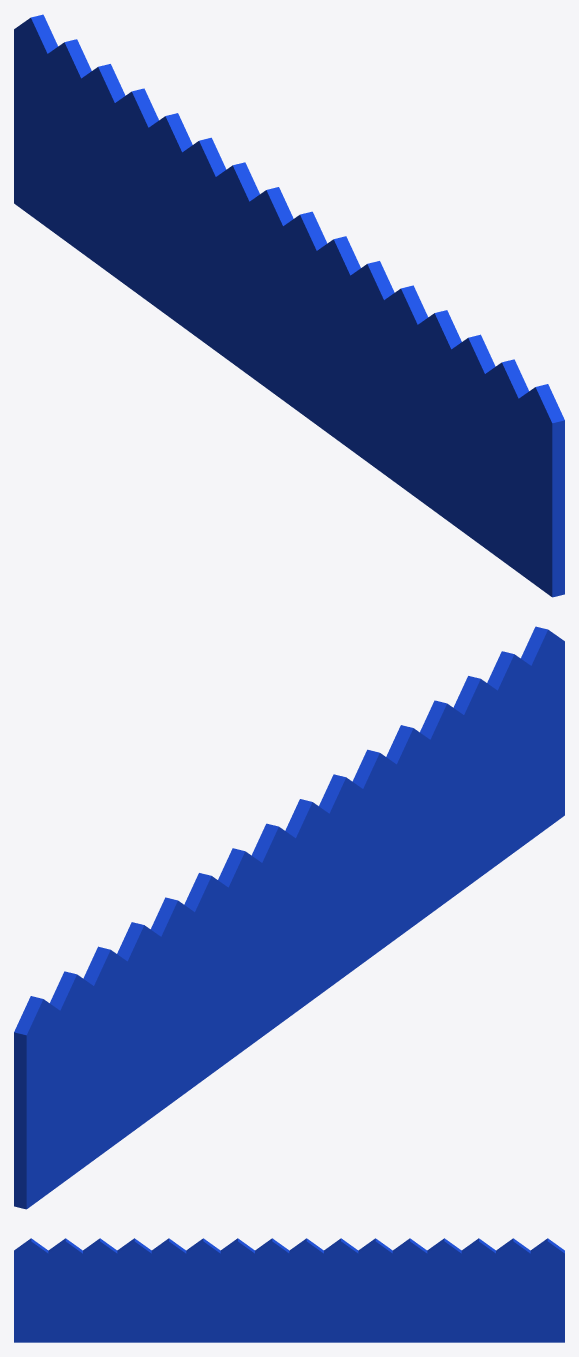
Rendered from fence 1.fbx.
The picture shows the model from 3 angles, top to bottom: view 1: azimuth 30°, elevation 25°; view 2: azimuth 150°, elevation 25°; view 3: azimuth 270°, elevation 25°; orthographic projection. The views are drawn at different scales.
Visible parts, largest first — view 1: Cube.001; view 2: Cube.001; view 3: Cube.001.
Part boxes in pixels (x1=…): Cube.001: x1=14, y1=14, x2=564, y2=597; Cube.001: x1=14, y1=626, x2=564, y2=1209; Cube.001: x1=14, y1=1238, x2=564, y2=1342.
Size of the model in its own units: 43.46 by 650 by 3200.
